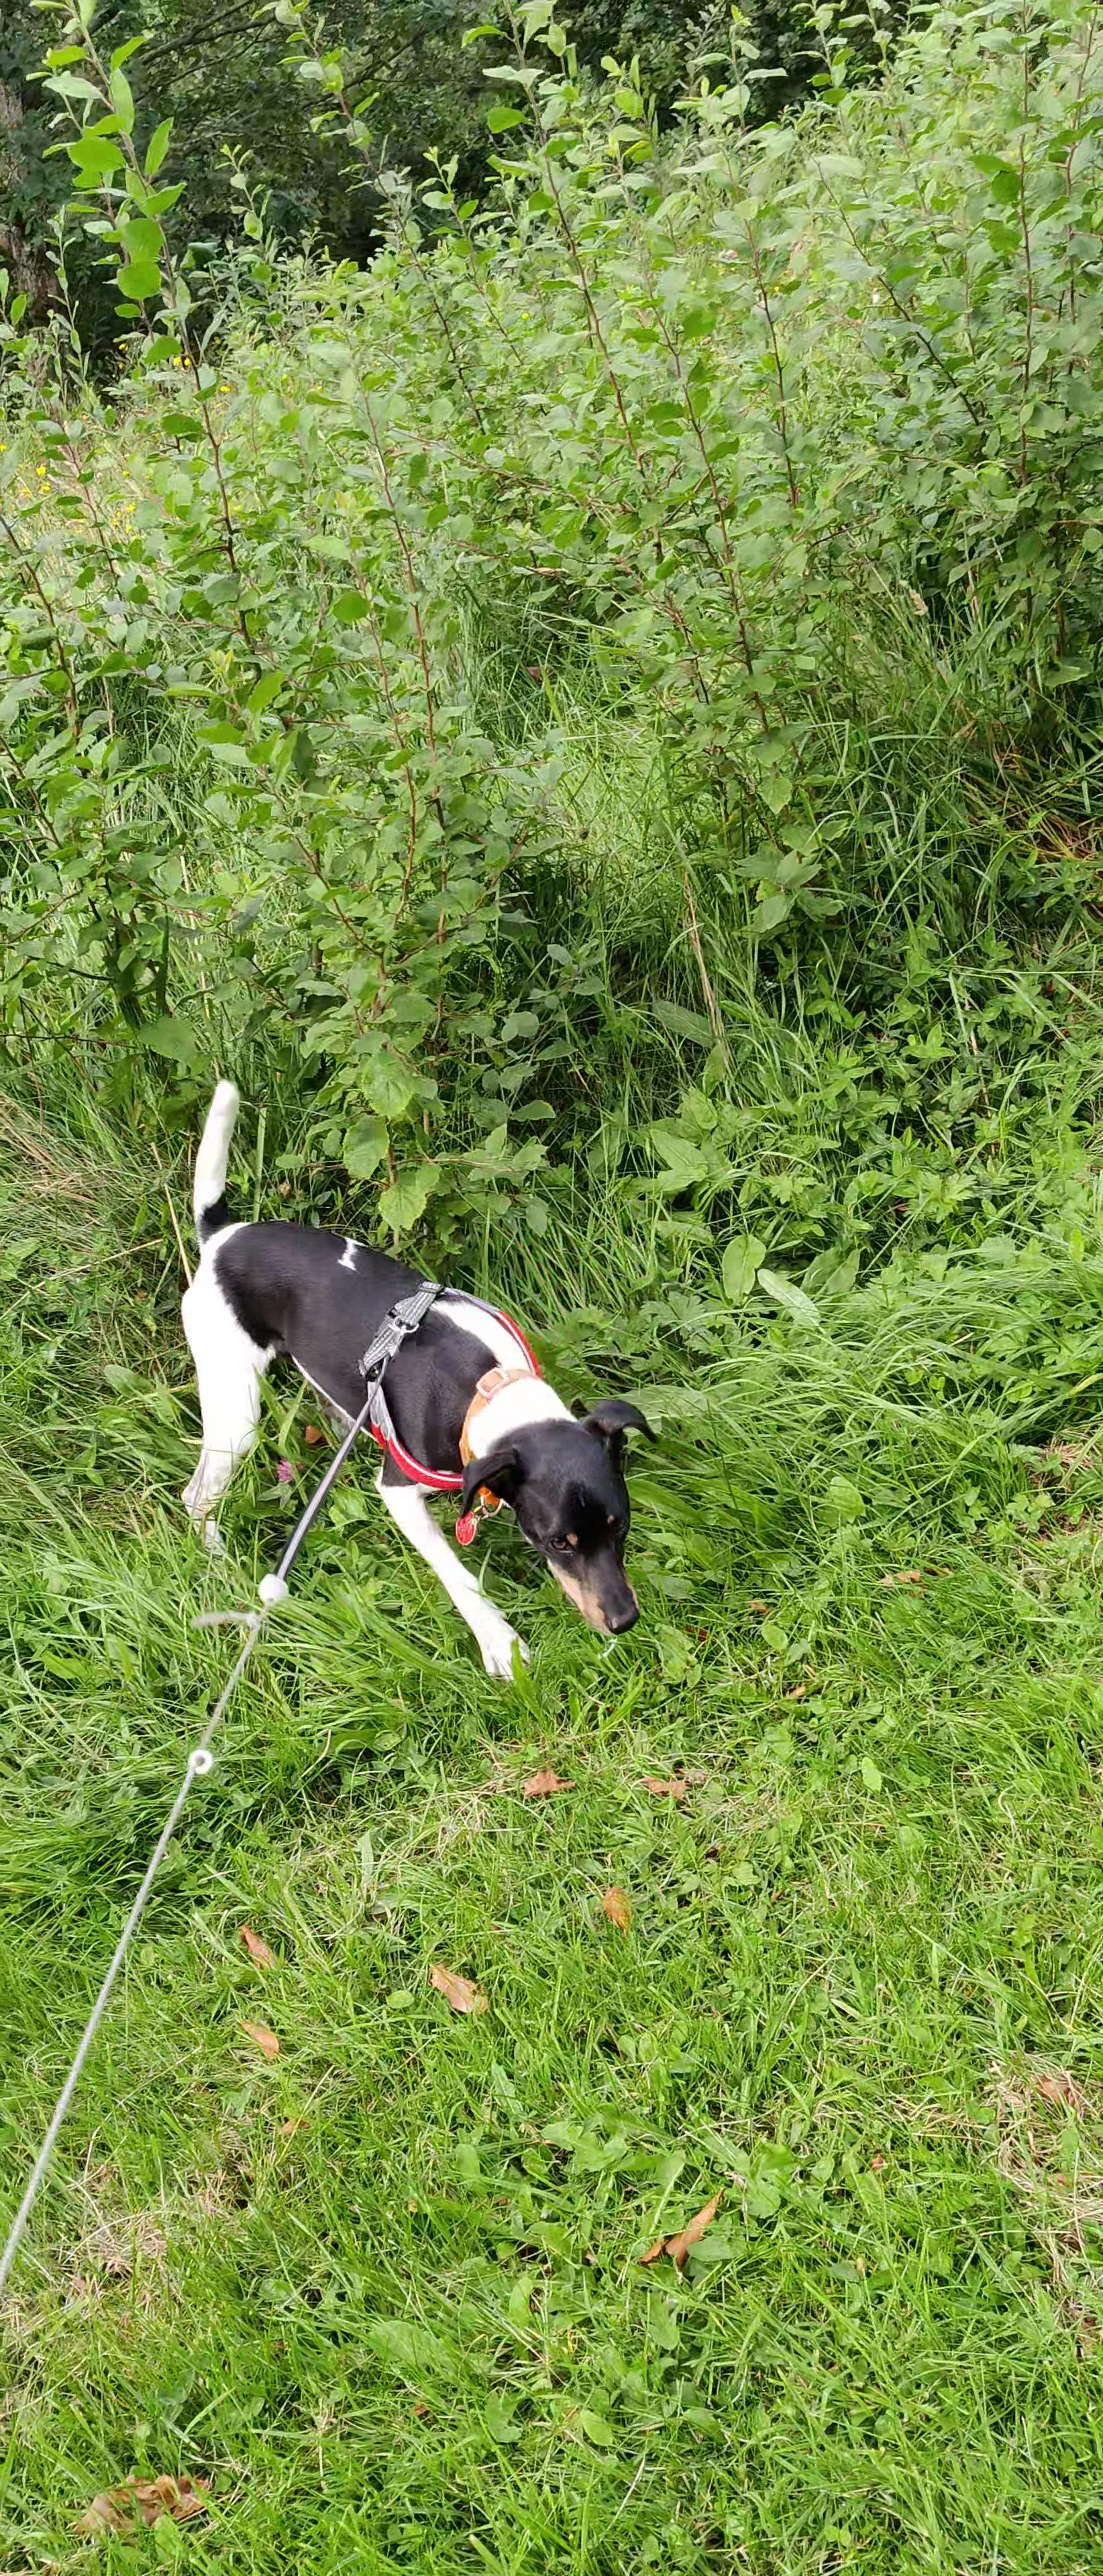Dog: (169, 1073, 661, 1690)
